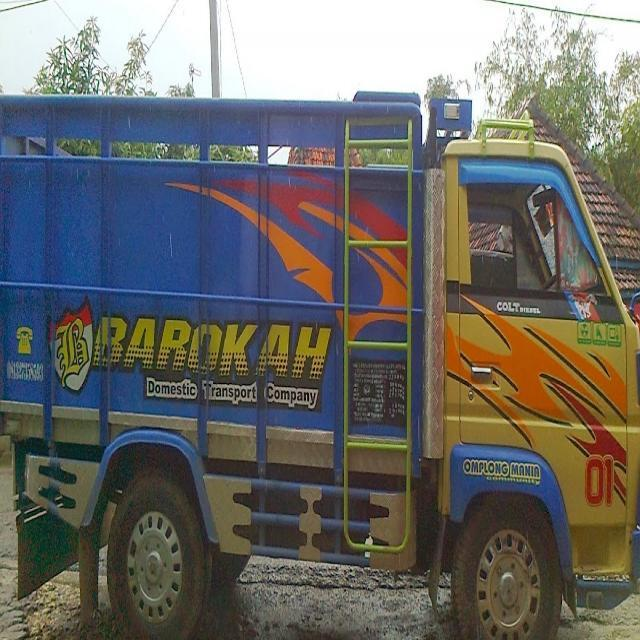truck: (1, 80, 640, 639)
